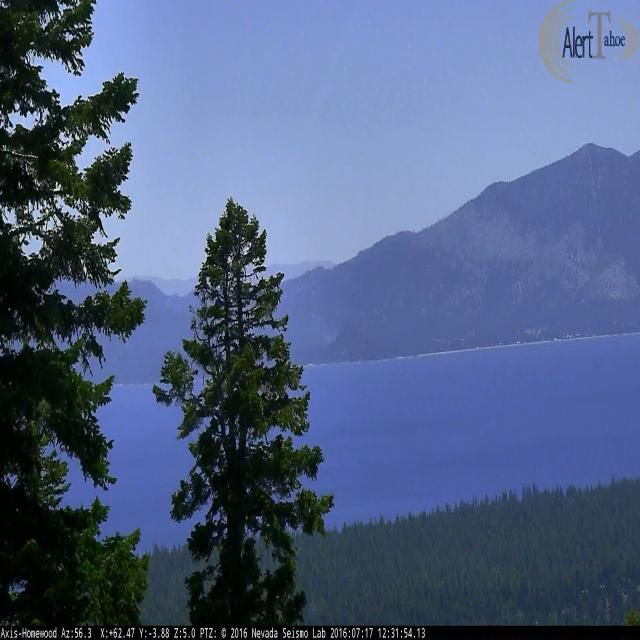smoke: (320, 313, 343, 347)
